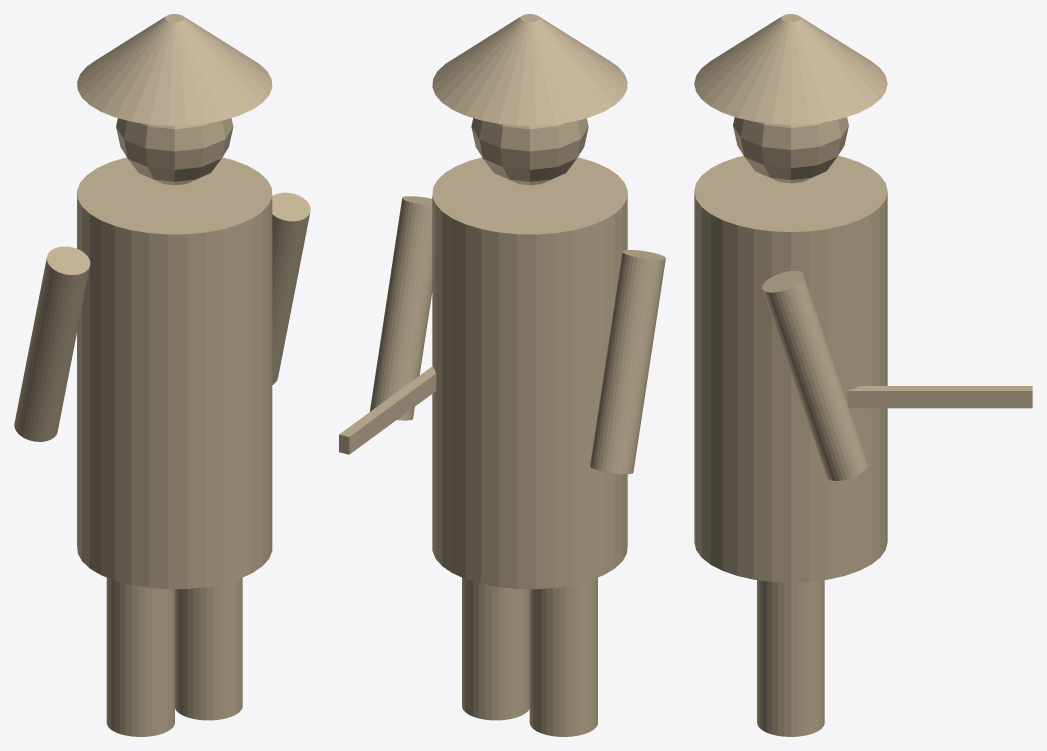
File: vc_infantry.glb
3 renders of one model, left to right at view 1: azimuth 30°, elevation 25°; view 2: azimuth 150°, elevation 25°; view 3: azimuth 270°, elevation 25°, orthographic.
Visible parts, largest first — view 1: vc_infantry; view 2: vc_infantry; view 3: vc_infantry.
Boxes of the visible parts, x1=… form: vc_infantry: x1=14, y1=14, x2=310, y2=736; vc_infantry: x1=339, y1=14, x2=665, y2=736; vc_infantry: x1=694, y1=14, x2=1032, y2=736.
Bounding box in the file's own units: 0.61 × 1.57 × 0.7.
